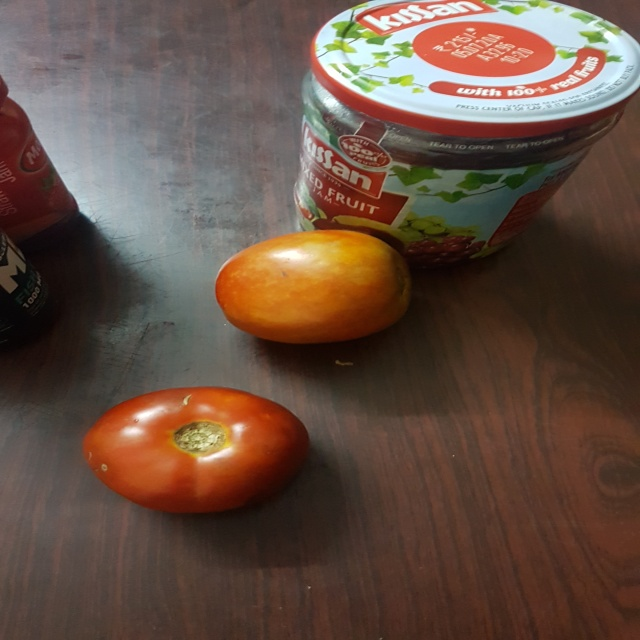tomato: (73, 374, 325, 518), (212, 219, 421, 350)
